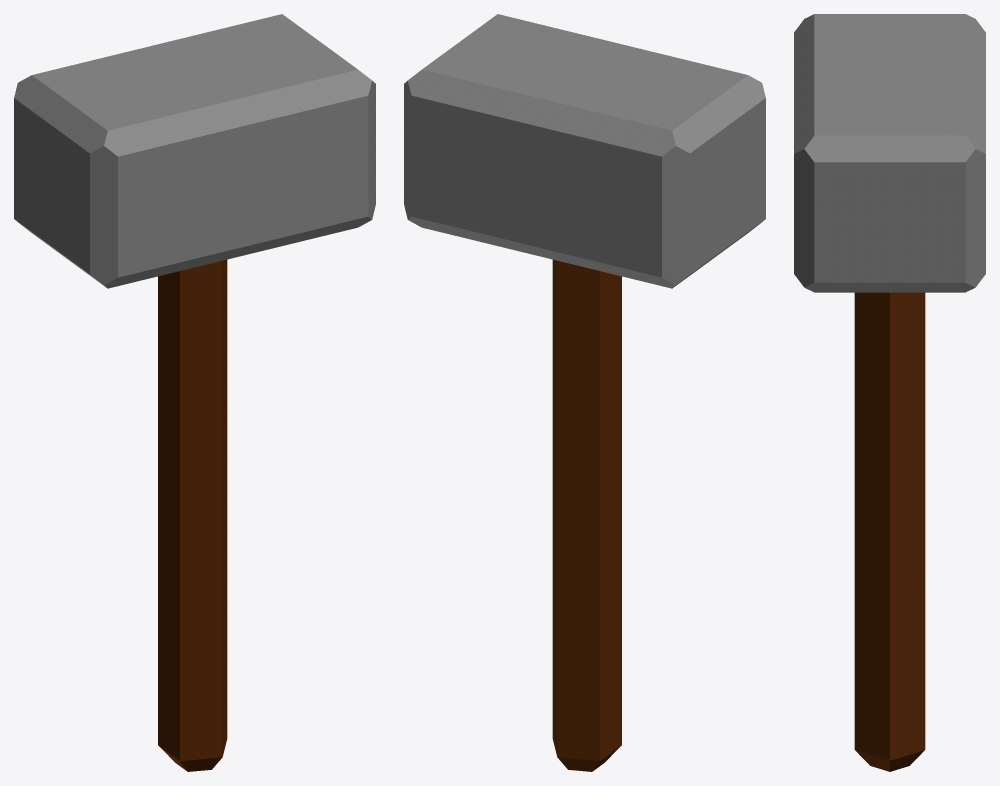
Rendered from Hummer.fbx.
The picture shows the model from 3 angles, left to right: view 1: azimuth 30°, elevation 25°; view 2: azimuth 150°, elevation 25°; view 3: azimuth 270°, elevation 25°; orthographic projection.
Visible parts, largest first — view 1: Cylinder_1; view 2: Cylinder_1; view 3: Cylinder_1.
Boxes of the visible parts, x1,y1,x2,y2 form: Cylinder_1: [14, 14, 375, 771]; Cylinder_1: [404, 14, 765, 771]; Cylinder_1: [794, 14, 985, 771].
Size of the model in its own units: 213 by 493 by 125.
1 material, 1 textured.
